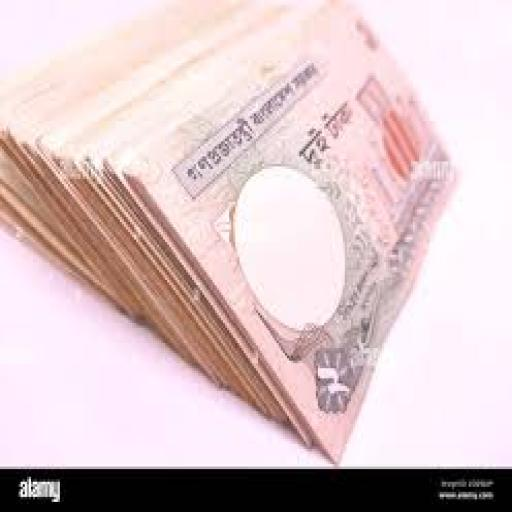2taka: (158, 8, 465, 462)
